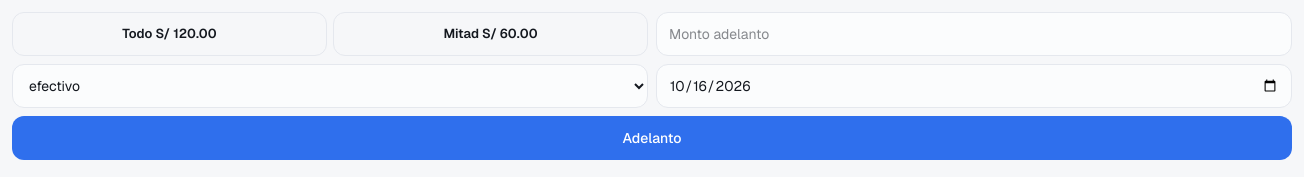
AbonoForm — atajos de monto › el atajo no envía el formulario, solo llena el monto
Click the button "Todo S/ 120.00" at (170, 34), box [12,12,327,56]
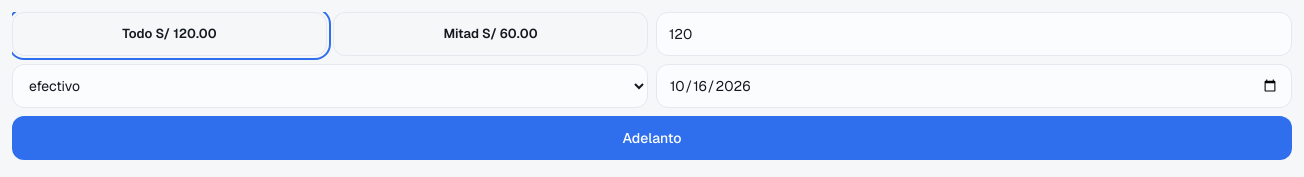
Expected: the button "Adelanto" is enabled, [12,116,1292,160]
Expected: the number field named "monto" holds "120", [656,12,1292,56]
